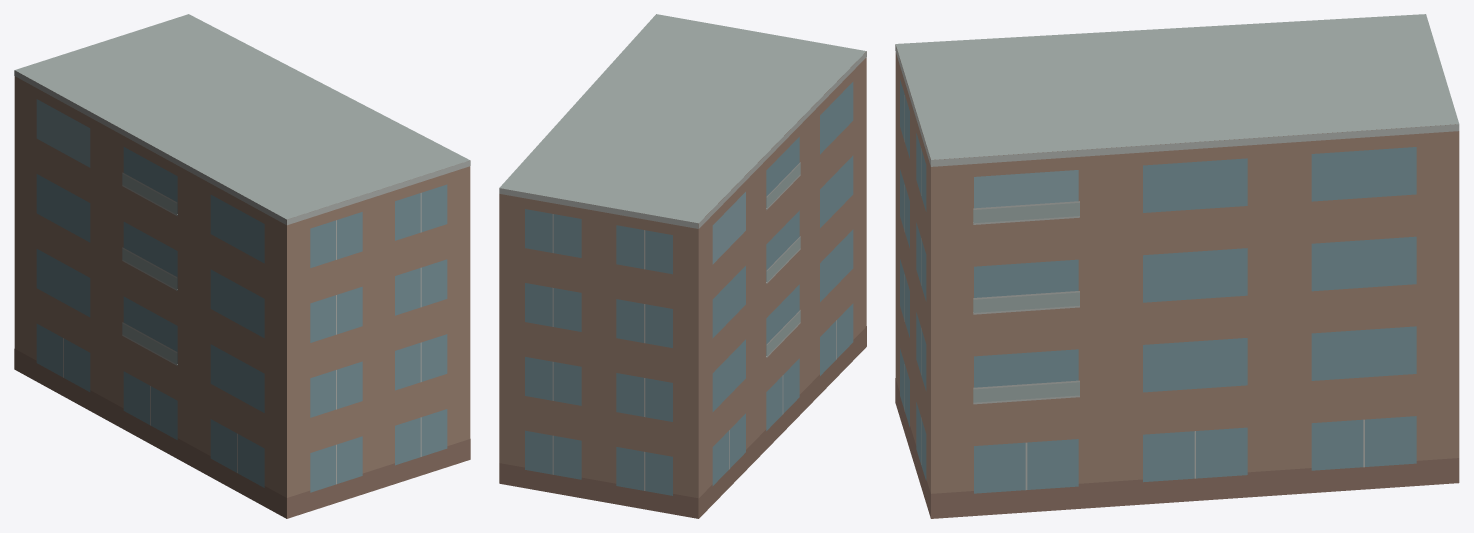
The model's file is survey-upis-32631069.glb.
3 renders of one model, left to right at view 1: azimuth 30°, elevation 25°; view 2: azimuth 150°, elevation 25°; view 3: azimuth 270°, elevation 25°, orthographic. The views are drawn at different scales.
Parts seen in each view (by area): view 1: survey-upis-32631069.tmp; view 2: survey-upis-32631069.tmp; view 3: survey-upis-32631069.tmp.
Boxes of the visible parts, box(x1,y1,x2,y2) form: survey-upis-32631069.tmp: box(14, 14, 470, 518); survey-upis-32631069.tmp: box(499, 14, 866, 518); survey-upis-32631069.tmp: box(895, 14, 1459, 518).
Size of the model in its own units: 11 by 12.6 by 17.95.
